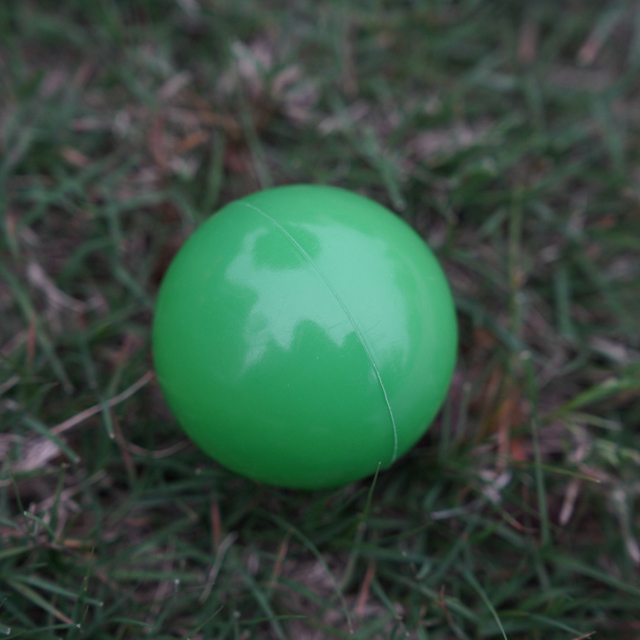Ball: (157, 186, 463, 485)
